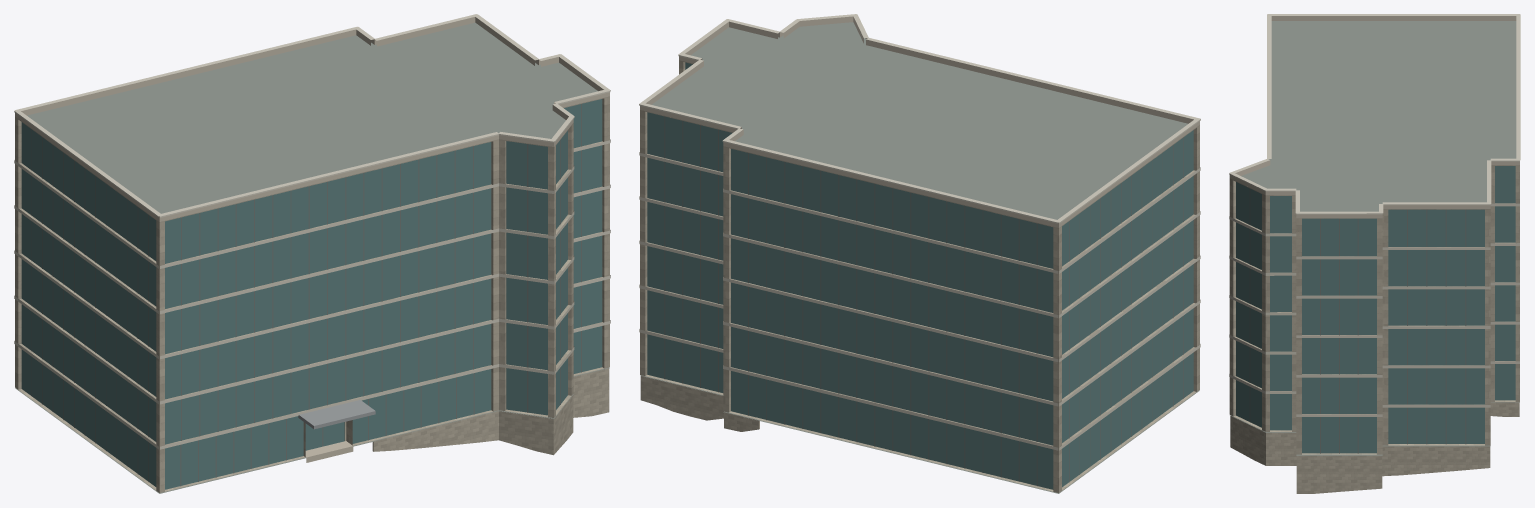
3 views of the same model, side by side, from view 1: azimuth 30°, elevation 25°; view 2: azimuth 150°, elevation 25°; view 3: azimuth 270°, elevation 25° (orthographic). The views are drawn at different scales.
Visible parts, largest first — view 1: global__glass, global__roof, global__wall, global__trim, global__frame, global__foundationSkirt, global__parapet, global__canopy; view 2: global__glass, global__roof, global__trim, global__wall, global__frame, global__parapet, global__foundationSkirt; view 3: global__glass, global__roof, global__wall, global__foundationSkirt, global__trim, global__frame, global__parapet.
Boxes of the visible parts, <box> form: global__glass: <box>21,99,602,489</box>; global__roof: <box>15,22,609,493</box>; global__wall: <box>15,96,609,492</box>; global__trim: <box>14,14,610,449</box>; global__frame: <box>31,104,581,486</box>; global__foundationSkirt: <box>372,368,609,455</box>; global__parapet: <box>15,17,609,221</box>; global__canopy: <box>298,400,375,429</box>; global__glass: <box>647,62,1193,489</box>; global__roof: <box>640,22,1199,493</box>; global__trim: <box>639,14,1200,450</box>; global__wall: <box>640,60,1199,492</box>; global__frame: <box>664,116,1183,486</box>; global__parapet: <box>640,16,1199,227</box>; global__foundationSkirt: <box>640,375,759,431</box>; global__glass: <box>1236,166,1515,453</box>; global__roof: <box>1230,21,1519,455</box>; global__wall: <box>1229,165,1519,454</box>; global__foundationSkirt: <box>1230,402,1519,493</box>; global__trim: <box>1229,14,1520,416</box>; global__frame: <box>1249,188,1466,453</box>; global__parapet: <box>1229,16,1519,218</box>.
Size of the model in its own units: 37.98 by 24.95 by 23.46.
10 materials, 2 textured.
